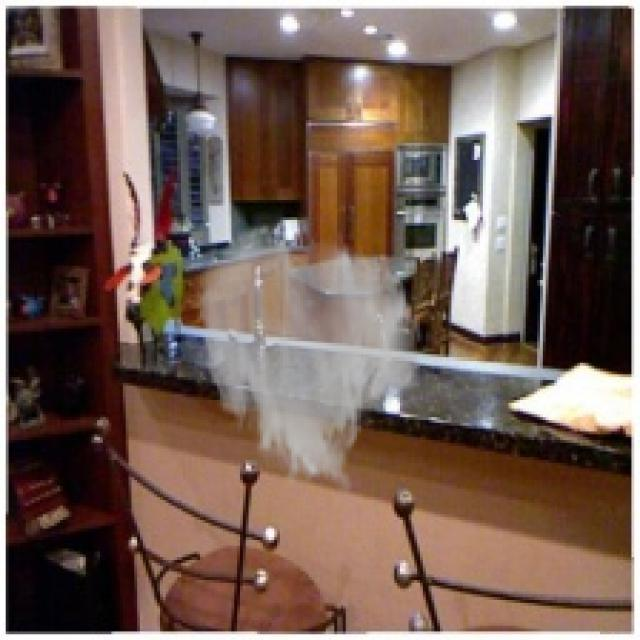Smoke: (194, 220, 426, 497)
